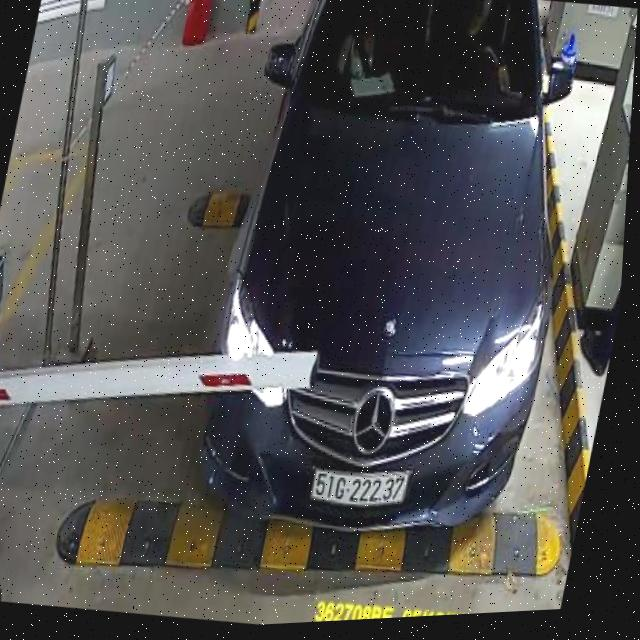car: (171, 0, 619, 573)
plate: (303, 458, 417, 518)
